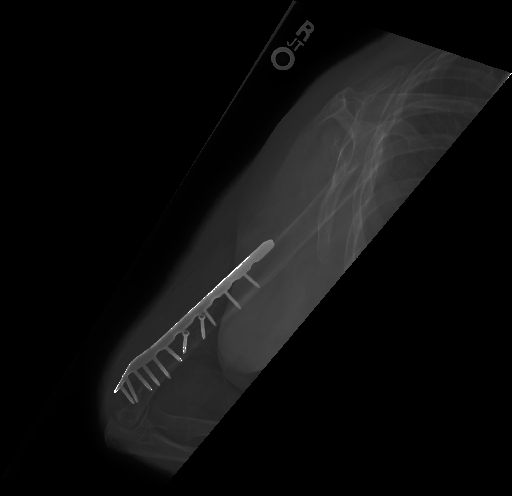implant: (114, 238, 277, 403)
